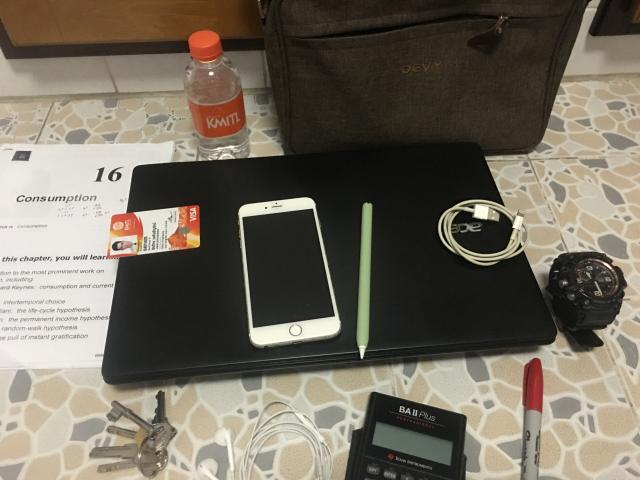Keys: (90, 391, 176, 478)
Mobile phone: (238, 198, 341, 348)
Pen: (521, 358, 544, 480)
Watch: (548, 251, 626, 349)
bottle: (184, 30, 250, 160)
paper: (0, 142, 174, 369)
wire: (196, 400, 332, 480), (438, 200, 529, 266)
